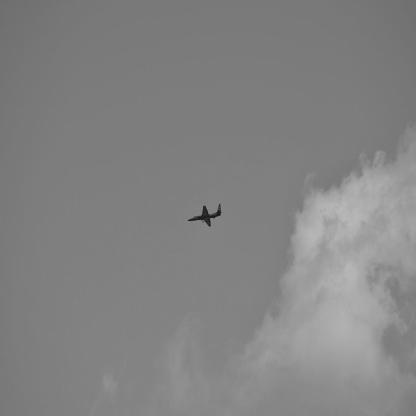U2: (189, 204, 224, 228)
